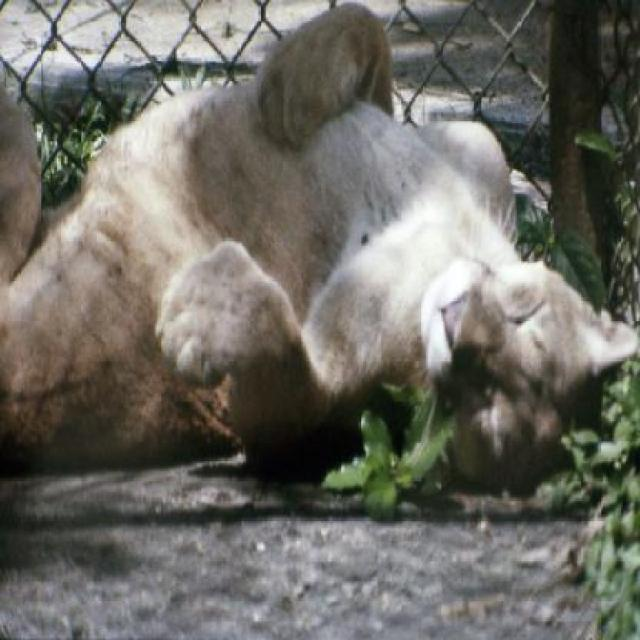Lion: (8, 30, 620, 572)
